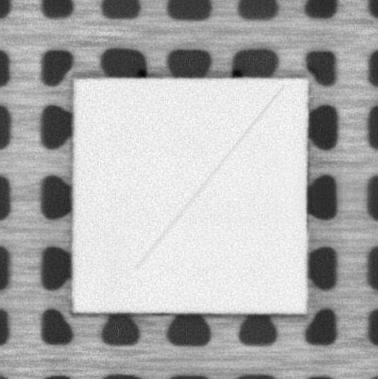DIE_CRACK: (136, 83, 283, 269)
